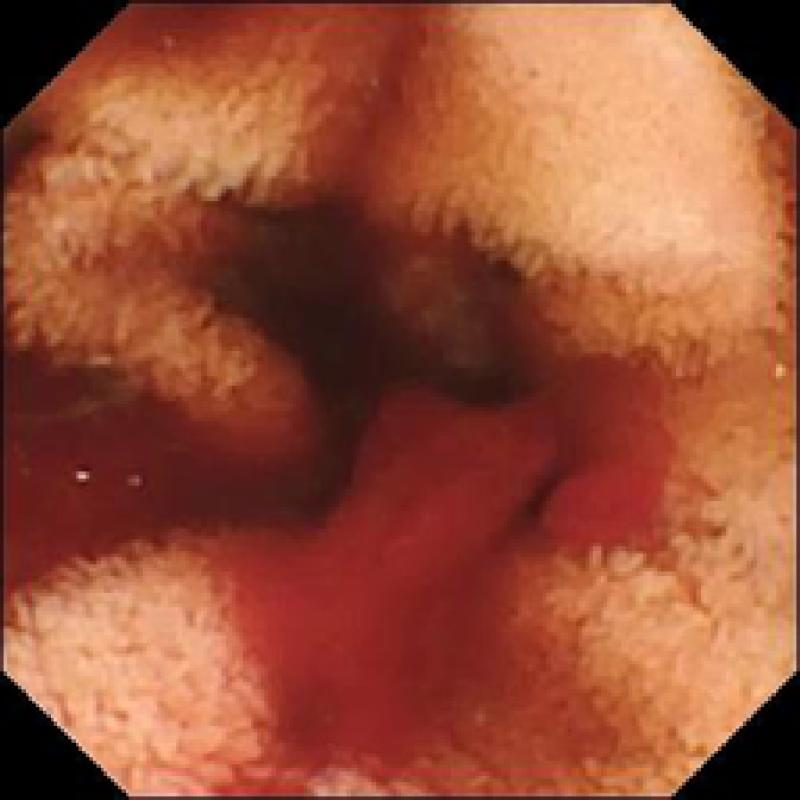bleeding: (203, 357, 668, 800), (0, 374, 197, 559)
